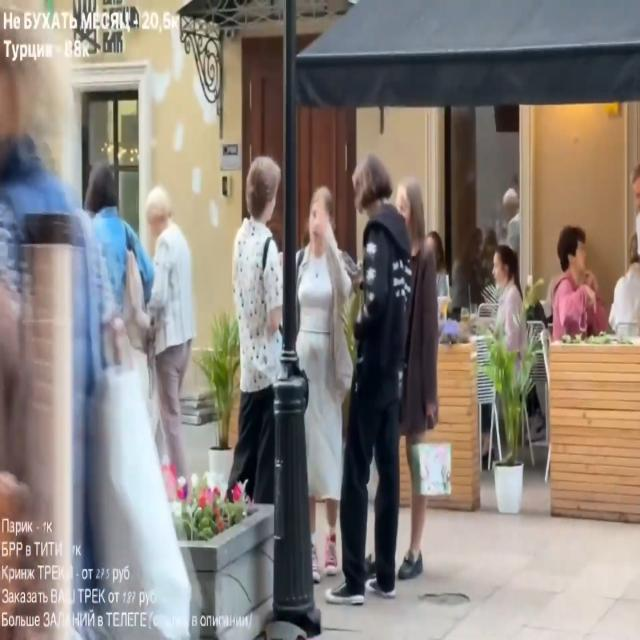Person: (343, 158, 445, 611), (286, 162, 362, 608), (132, 176, 197, 496), (550, 226, 608, 341), (480, 245, 526, 350)
